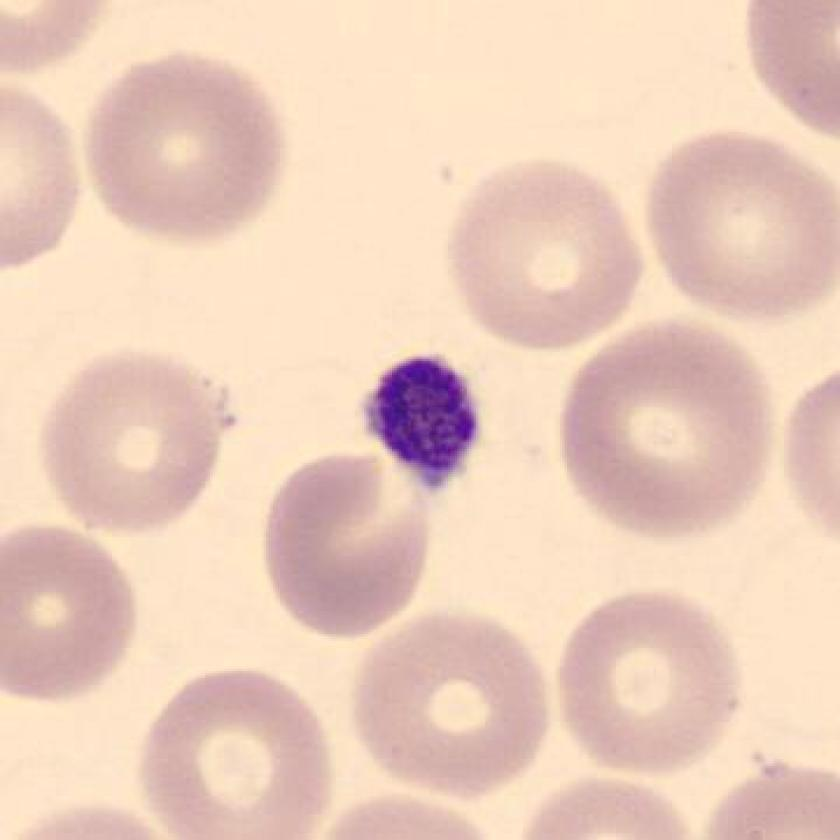platelets: (365, 351, 486, 503)
